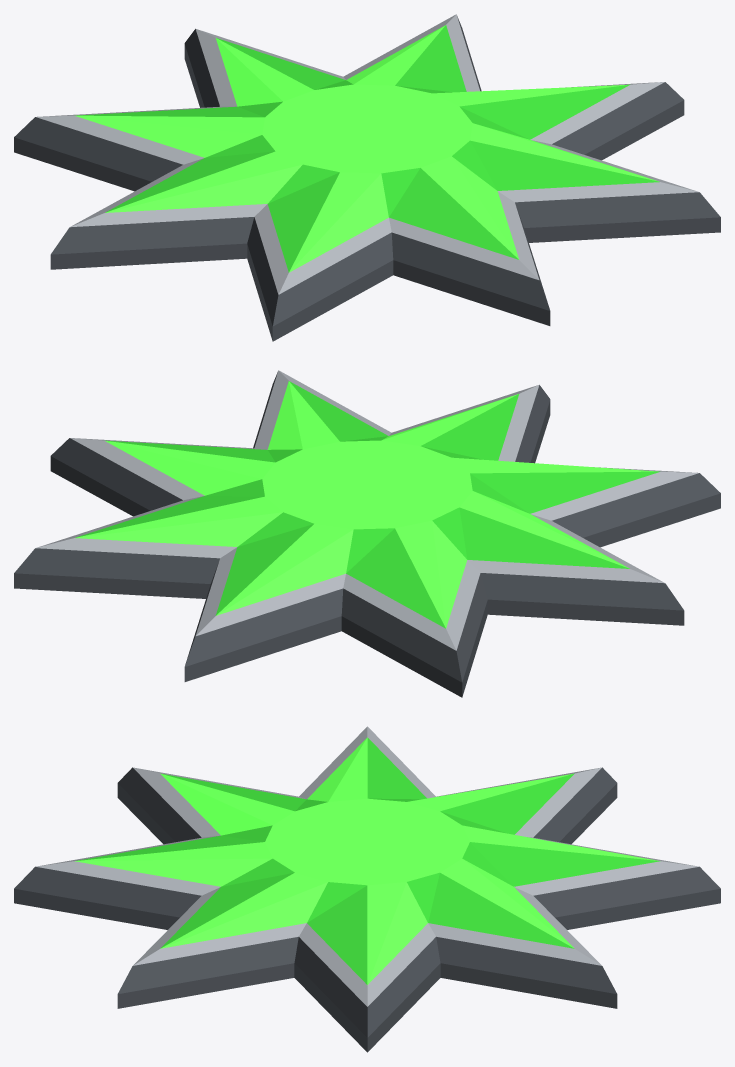
Rendered from ScreenSelectorAPlayable.glb.
3 renders of one model, top to bottom at view 1: azimuth 30°, elevation 25°; view 2: azimuth 150°, elevation 25°; view 3: azimuth 270°, elevation 25°, orthographic. The views are drawn at different scales.
Parts seen in each view (by area): view 1: ScreenSelectorAPlayable; view 2: ScreenSelectorAPlayable; view 3: ScreenSelectorAPlayable.
Boxes of the visible parts, <box> form: ScreenSelectorAPlayable: <box>14,14,720,341</box>; ScreenSelectorAPlayable: <box>14,370,720,697</box>; ScreenSelectorAPlayable: <box>14,726,720,1052</box>.
Bounding box in the file's own units: 0.7 × 0.067 × 0.7.
